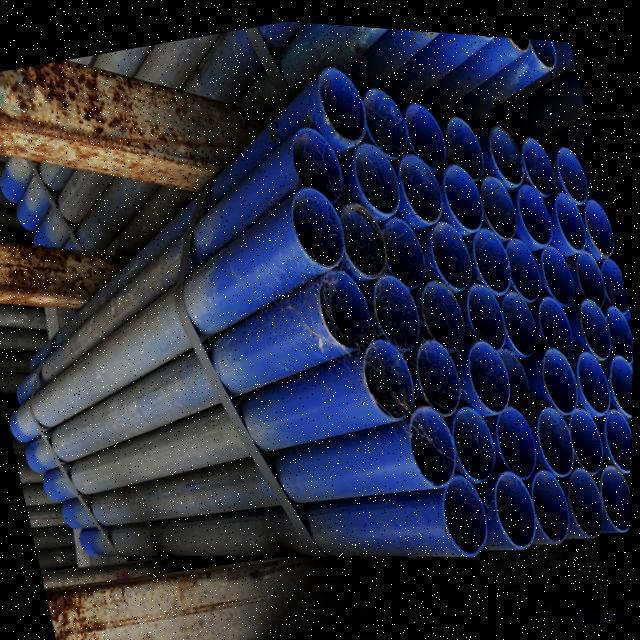pipe: (315, 259, 373, 345), (364, 331, 418, 413), (290, 180, 344, 262), (413, 268, 468, 347), (285, 121, 338, 201), (398, 92, 447, 178), (420, 213, 478, 284), (374, 208, 421, 295), (406, 400, 457, 480), (358, 77, 409, 156), (336, 194, 387, 272), (315, 60, 367, 136), (365, 263, 415, 342), (447, 400, 498, 477), (345, 134, 397, 207), (444, 462, 489, 546), (484, 394, 533, 471), (412, 332, 462, 407), (524, 451, 569, 534), (490, 458, 535, 540), (440, 103, 487, 181), (392, 141, 440, 217), (463, 333, 511, 406), (455, 271, 503, 342), (432, 154, 479, 226), (529, 280, 570, 358), (568, 390, 605, 475), (464, 216, 508, 286), (497, 278, 539, 351), (517, 124, 562, 192), (473, 163, 516, 234), (535, 394, 574, 472), (504, 222, 541, 300), (483, 113, 527, 178), (533, 234, 576, 298), (569, 458, 611, 523), (574, 284, 612, 355), (507, 173, 548, 237), (536, 339, 575, 405), (596, 453, 632, 523), (569, 239, 609, 299), (499, 334, 530, 408), (547, 178, 583, 241), (575, 341, 612, 402), (551, 134, 588, 194), (580, 186, 617, 245), (601, 397, 633, 461), (606, 342, 634, 406), (604, 297, 634, 354), (601, 248, 629, 297), (528, 31, 554, 57)
